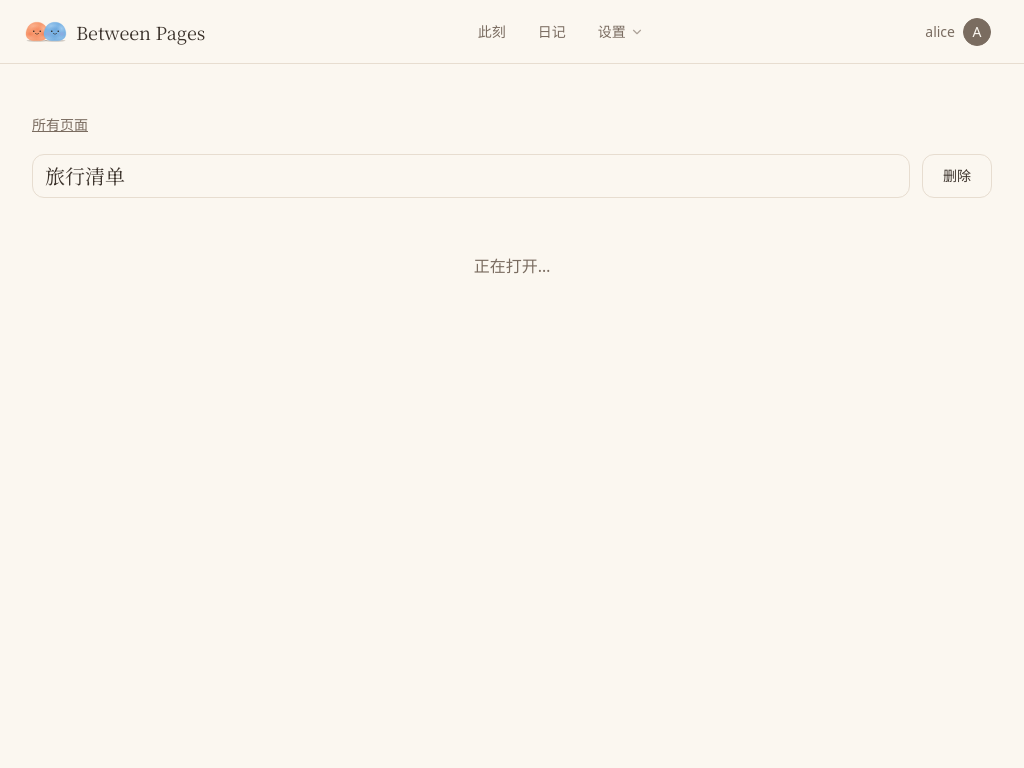
Test: shared pages › warns before deleting a page the partner wrote in, and reports the page seen on opening
Click the button "删除".
click(957, 176)  # box x1=922 y1=154 x2=992 y2=198
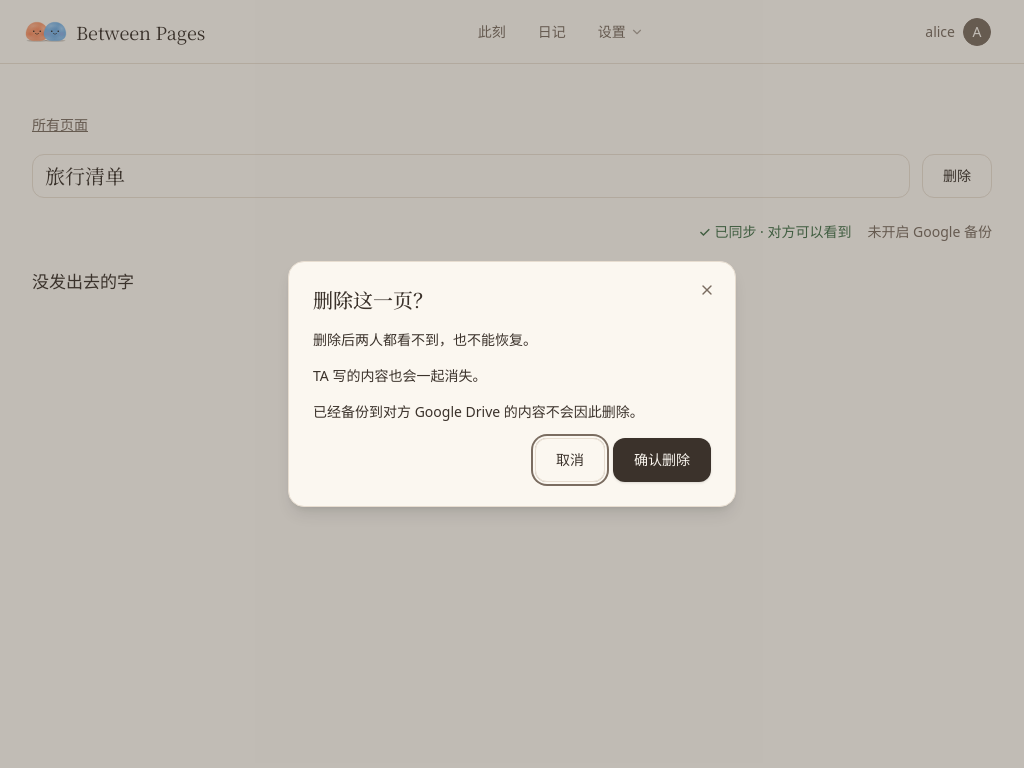
Expected: the text "TA 写的内容也会一起消失。" is shown, x1=313 y1=366 x2=486 y2=385
